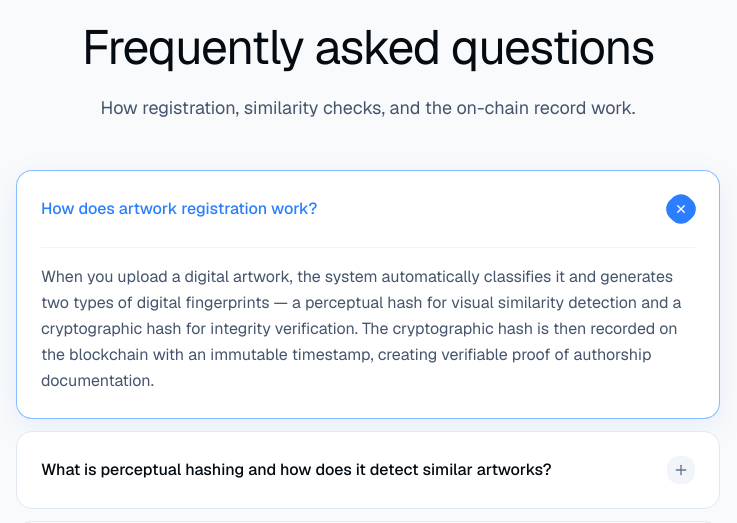
FaqSection › opens the first answer and switches to another question
Expected: the heading "Frequently asked questions" is shown, [82,16,654,78]
Expected: the text "two types of digital fingerprints" is shown, [41,266,681,391]
Click the button "What is perceptual hashing and how does it detect similar artworks?" at coordinates (368, 470), box [17,432,719,508]
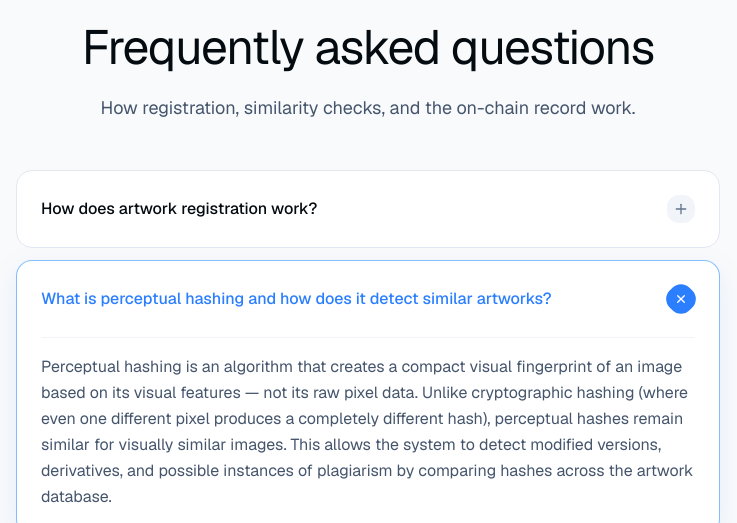
Result: the button "What is perceptual hashing and how does it detect similar artworks?" is expanded
Result: the button "How does artwork registration work?" is collapsed at [17,171,719,247]
Result: the text "compact visual fingerprint" is shown at [41,356,694,507]
Click the button "What is perceptual hashing and how does it detect similar artworks?" at coordinates (368, 299), box [17,261,719,337]
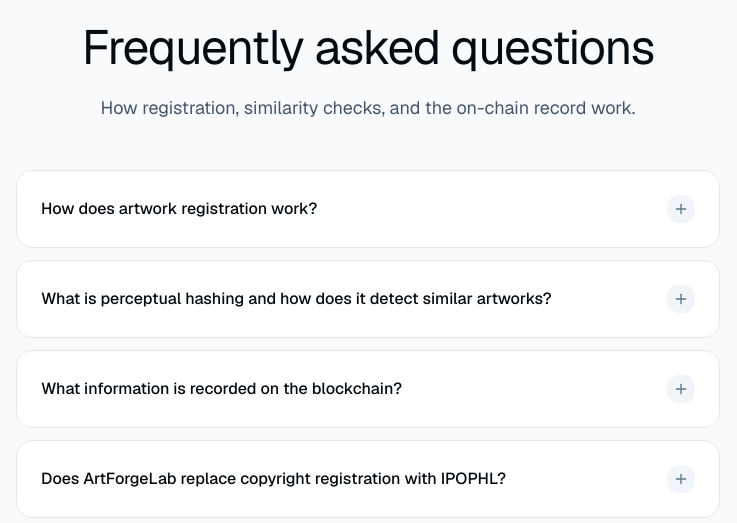
Result: the button "What is perceptual hashing and how does it detect similar artworks?" is collapsed at [17,261,719,337]
Result: the text "compact visual fingerprint" is gone
